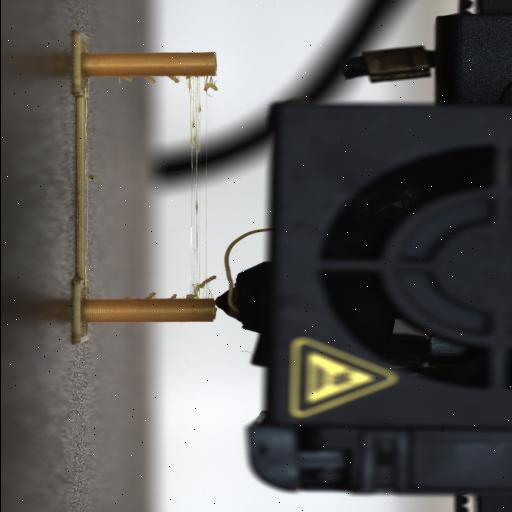stringing: (185, 74, 217, 300), (143, 75, 159, 87), (166, 74, 180, 86), (118, 76, 136, 84), (168, 290, 180, 300), (142, 292, 156, 300)
